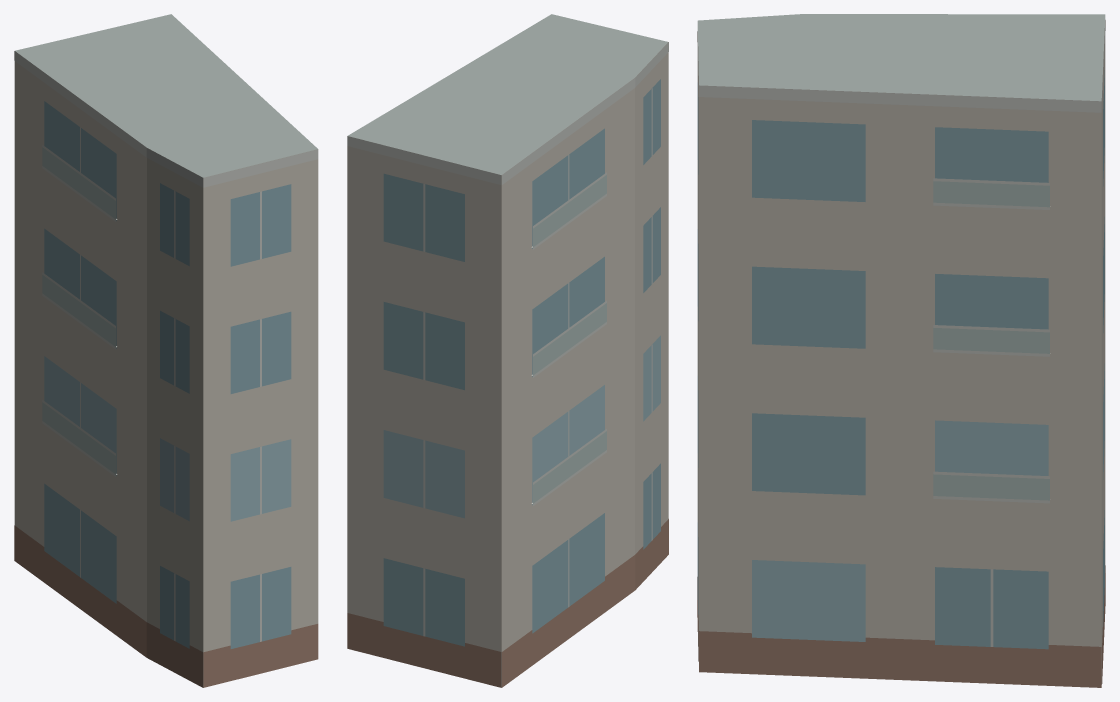
File: survey-upis-32933286.glb
3 views of the same model, side by side, from view 1: azimuth 30°, elevation 25°; view 2: azimuth 150°, elevation 25°; view 3: azimuth 270°, elevation 25° (orthographic). The views are drawn at different scales.
Visible parts, largest first — view 1: survey-upis-32933286.tmp; view 2: survey-upis-32933286.tmp; view 3: survey-upis-32933286.tmp.
Boxes of the visible parts, box(x1,y1,x2,y2) form: survey-upis-32933286.tmp: box(14, 14, 318, 687); survey-upis-32933286.tmp: box(347, 14, 668, 687); survey-upis-32933286.tmp: box(697, 14, 1105, 687).
Size of the model in its own units: 4 by 12.4 by 7.83.
